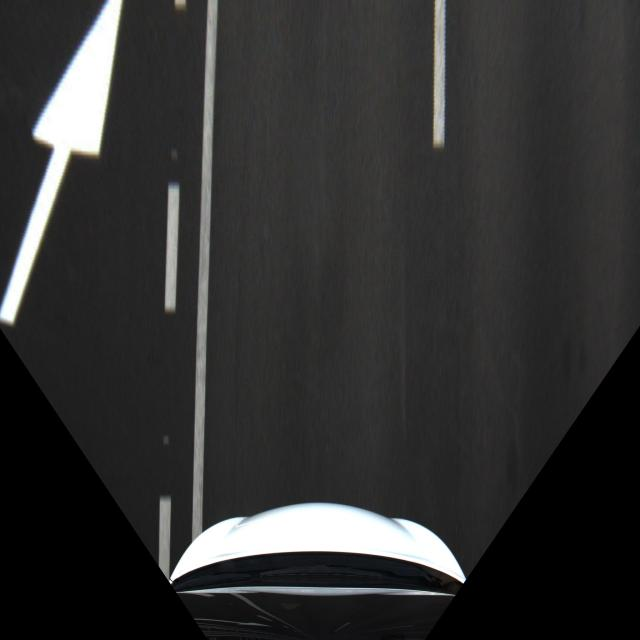chang_lane_right: (1, 5, 214, 378)
